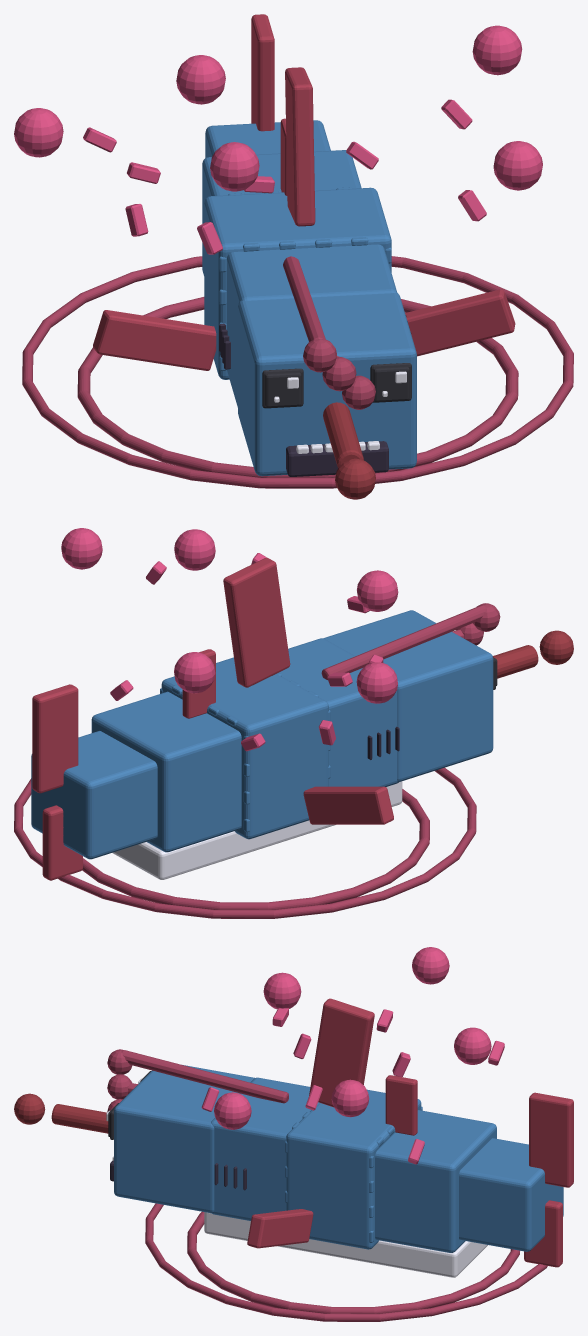
Rendered from MegaLaserShark.obj.
3 views of the same model, one above another, from view 1: azimuth 30°, elevation 25°; view 2: azimuth 150°, elevation 25°; view 3: azimuth 270°, elevation 25° (orthographic). The views are drawn at different scales.
Visible parts, largest first — view 1: MegaLaserShark; view 2: MegaLaserShark; view 3: MegaLaserShark.
Part boxes in pixels (x1,y1,x2,y2): MegaLaserShark: (14,14,573,499); MegaLaserShark: (14,528,573,918); MegaLaserShark: (14,947,573,1321).
Size of the model in its own units: 1.93 by 1.24 by 2.59.
